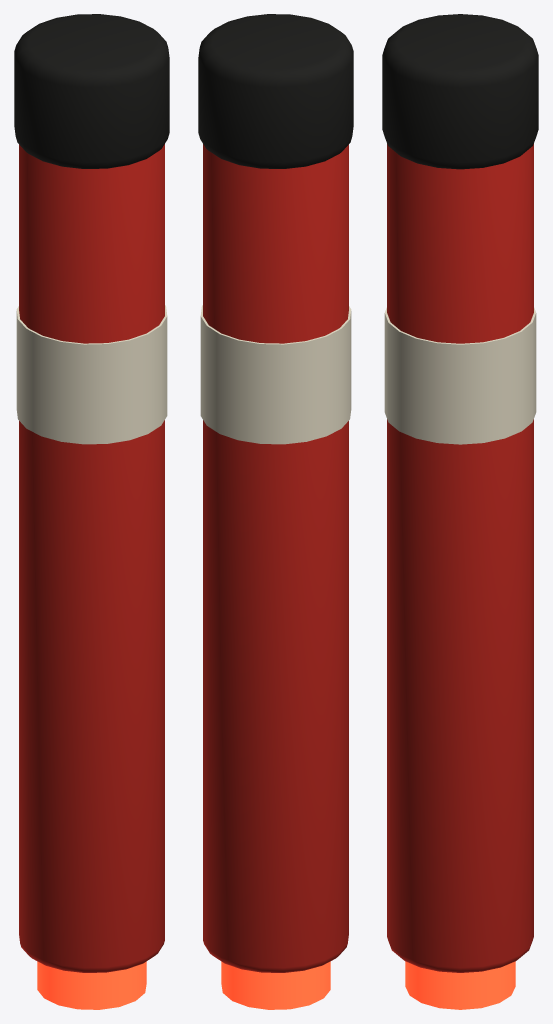
Rendered from flare.glb.
The picture shows the model from 3 angles, left to right: view 1: azimuth 30°, elevation 25°; view 2: azimuth 150°, elevation 25°; view 3: azimuth 270°, elevation 25°; orthographic projection.
Parts seen in each view (by area): view 1: tube, cap.001, band.001, tip; view 2: tube, cap.001, band.001, tip; view 3: tube, cap.001, band.001, tip.
Part boxes in pixels (bbox=[...]): tube: bbox=[19, 144, 164, 972]; cap.001: bbox=[14, 14, 169, 168]; band.001: bbox=[16, 305, 167, 444]; tip: bbox=[37, 961, 146, 1009]; tube: bbox=[203, 144, 348, 972]; cap.001: bbox=[198, 14, 353, 168]; band.001: bbox=[200, 305, 351, 444]; tip: bbox=[221, 961, 330, 1009]; tube: bbox=[387, 144, 533, 972]; cap.001: bbox=[382, 14, 538, 169]; band.001: bbox=[384, 307, 536, 444]; tip: bbox=[405, 961, 515, 1009].
Size of the model in its own units: 0.034 by 0.227 by 0.034.
